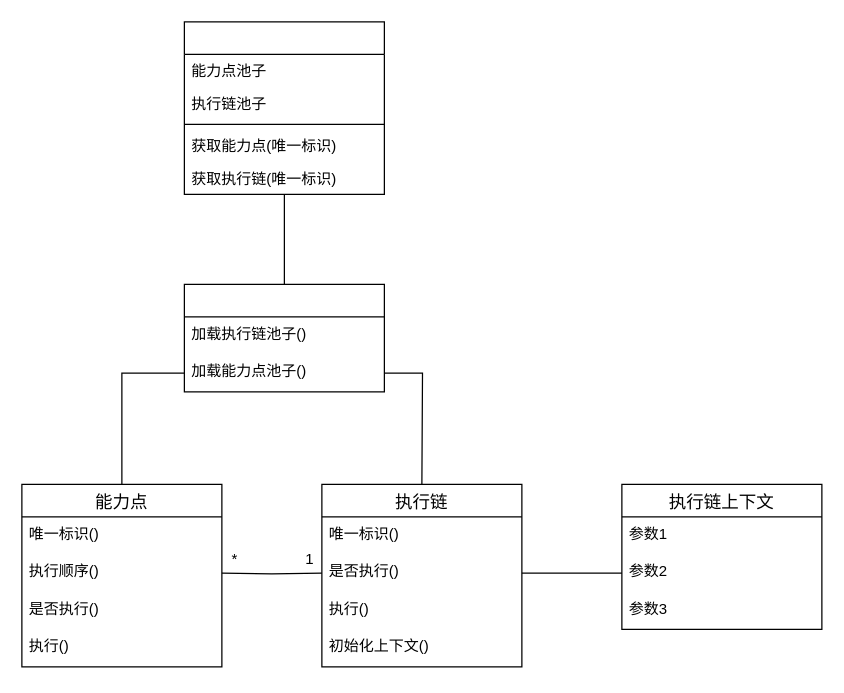
This 844x693 diagram has some shape labels left out. The shapes that lost their labels are listed below. From the top down, each one's box as (x1, y1, x2, y2) in pixels, then its label:
(183, 21, 384, 194): 工厂类
(183, 283, 384, 392): 配置类
